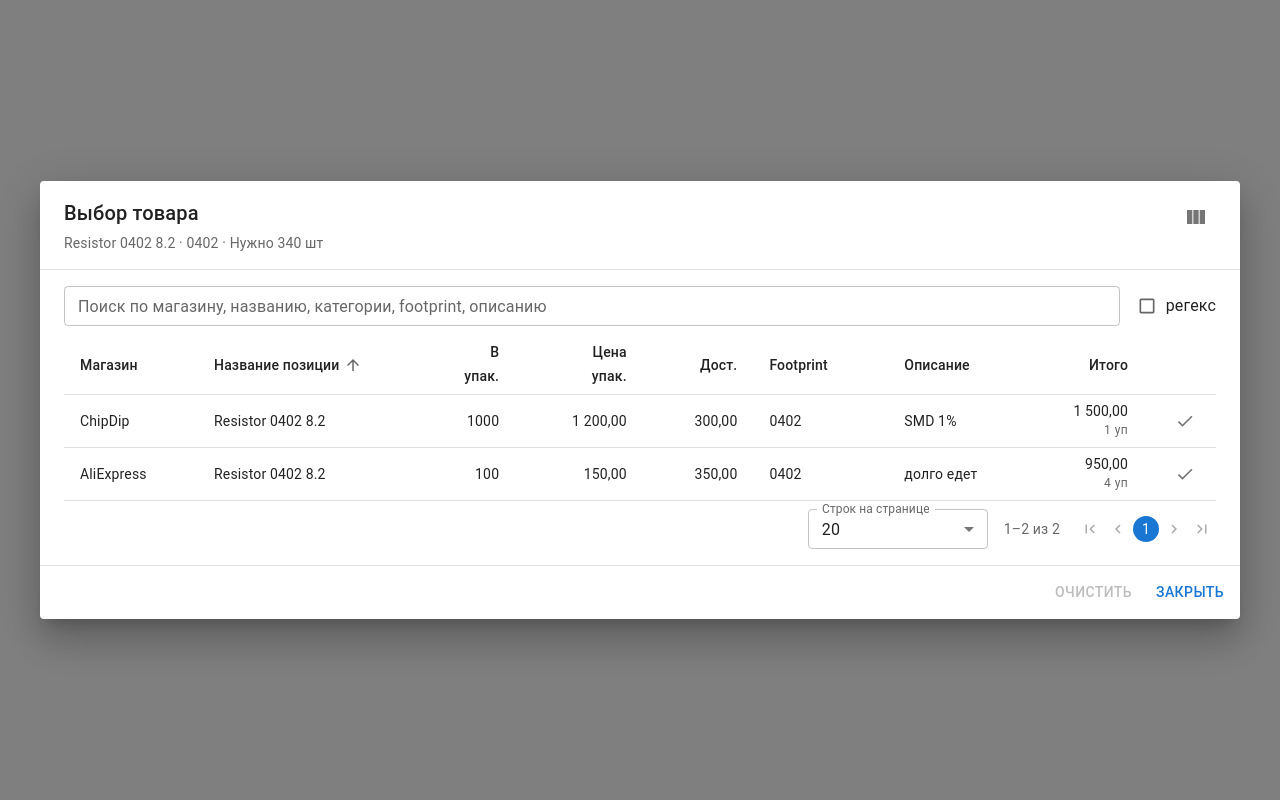
ProductPickerDialog › filters rows with the single search across text fields
Type "AliExpress" into the field labelled "Поиск по магазину, названию, категории, footprint, описанию" at {"x": 592, "y": 306}, box [64,286,1120,326]
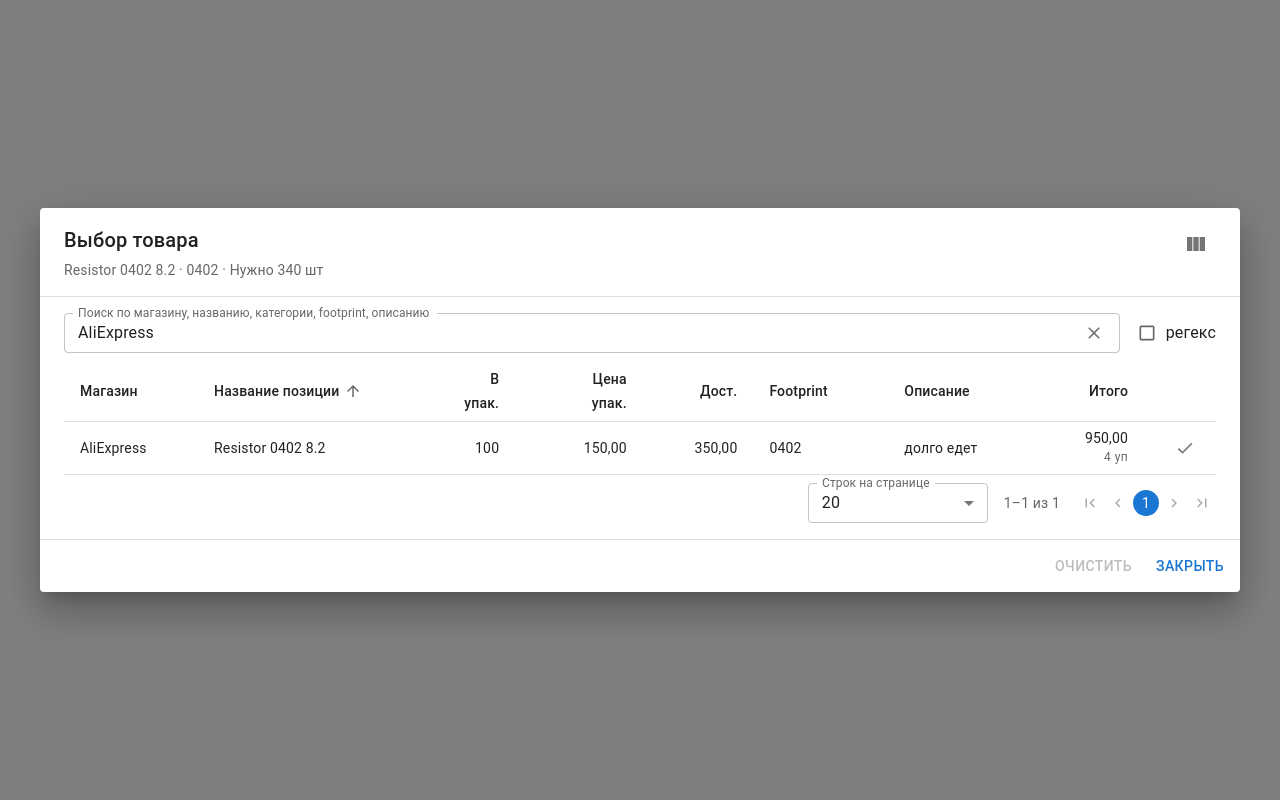
Expected: the text "AliExpress" is shown, [80,440,147,456]
Result: the text "ChipDip" is gone
